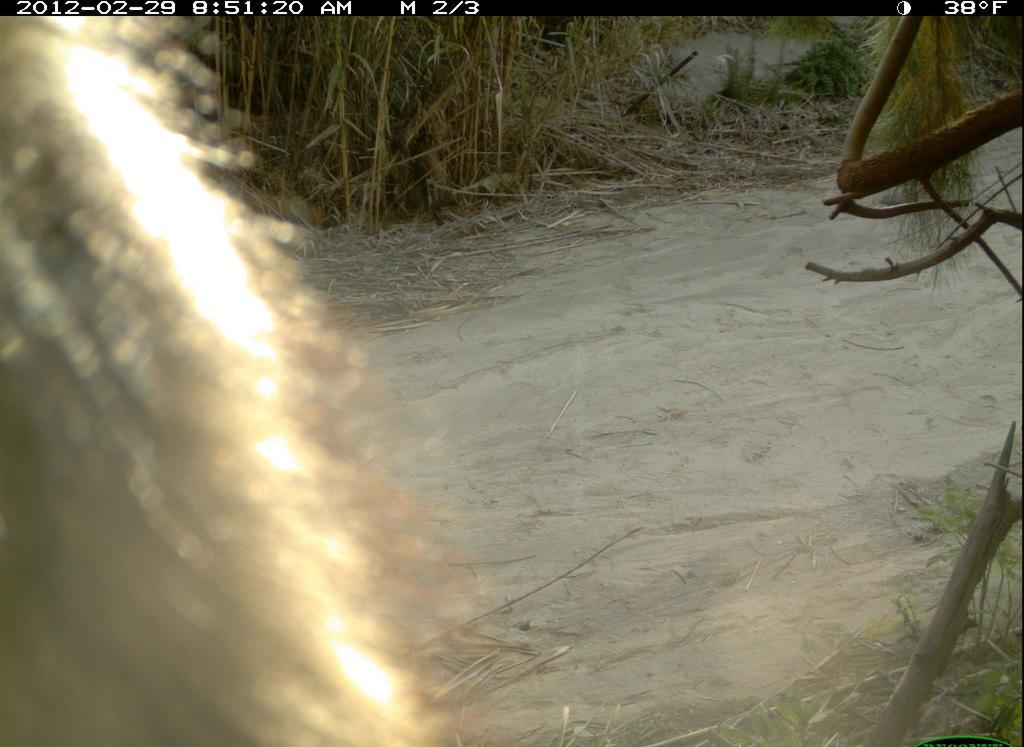coyote: (1, 17, 510, 747)
